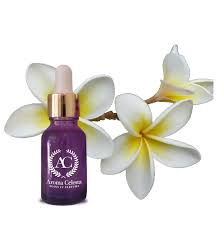frangipani: (101, 93, 203, 200)
